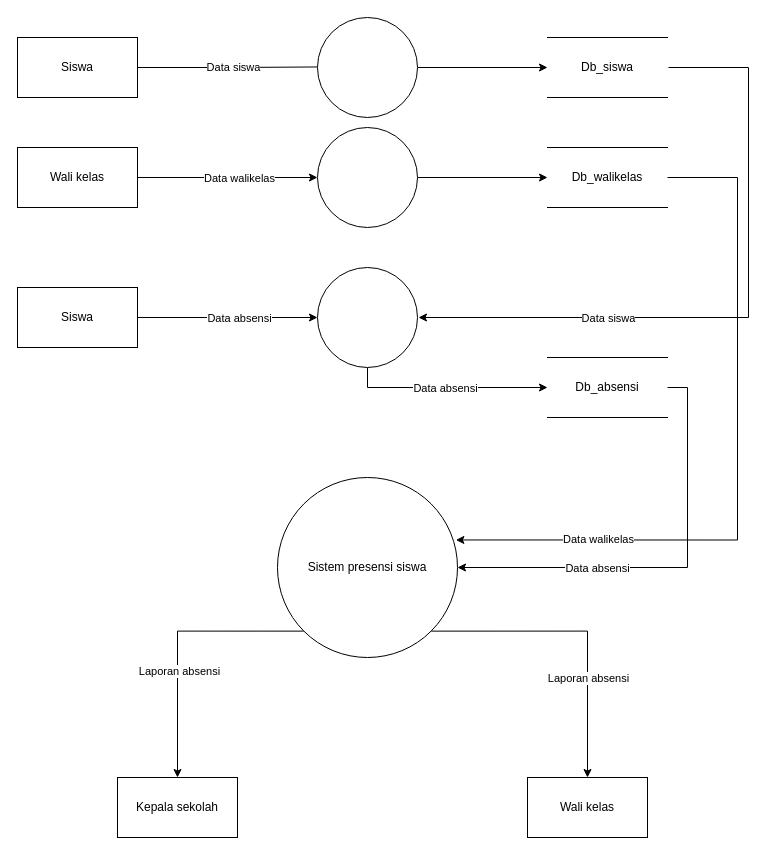
The diagram is 774 pixels wide and 855 high, and some of its shapes have lost their labels. The centre of each missing label's shape, as x and y in pixels:
"Absen RFID" goes at point (367, 317).
"Input data siwa" goes at point (367, 67).
"Input data wali kelas" goes at point (367, 177).
